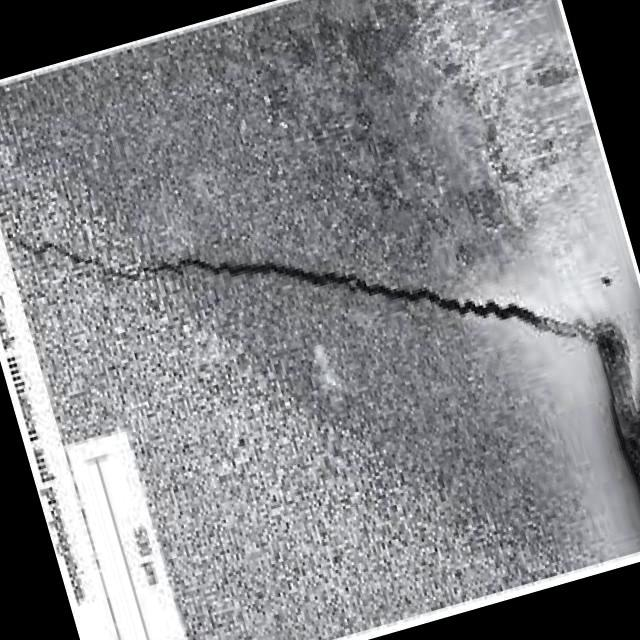defect: (7, 228, 610, 356)
